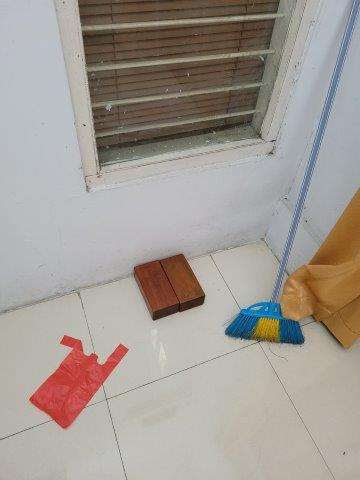plastik: (30, 337, 128, 430)
